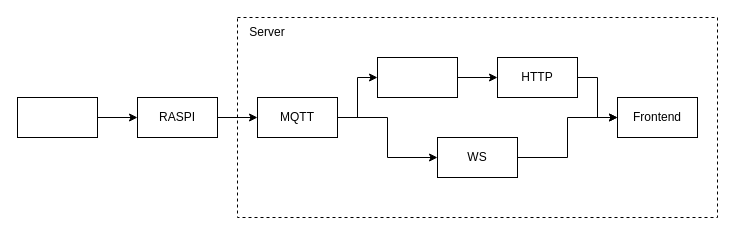
This 735x235 diagram has some shape labels left out. The centre of each missing label's shape, as x and y in pixels:
"Mariadb" belongs at point 417,77.
"SENSOR" belongs at point 57,117.
